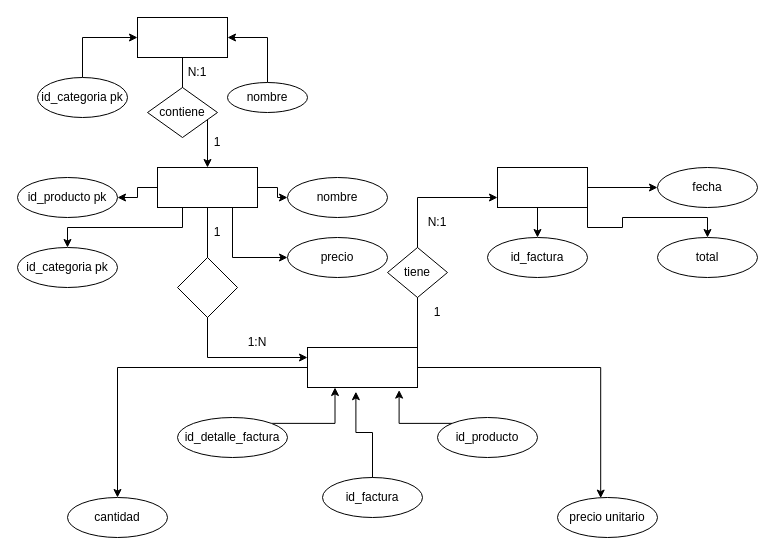
The diagram is 775 pixels wide and 555 high, and some of its shapes have lost their labels. The shapes that lost their labels are listed below. From the top down, each one's centre as x and y in pixels, then its label:
At (x=182, y=37): "Categoria".
At (x=207, y=187): "producto".
At (x=542, y=187): "factura".
At (x=207, y=287): "aparece".
At (x=362, y=367): "detalle_factura".
